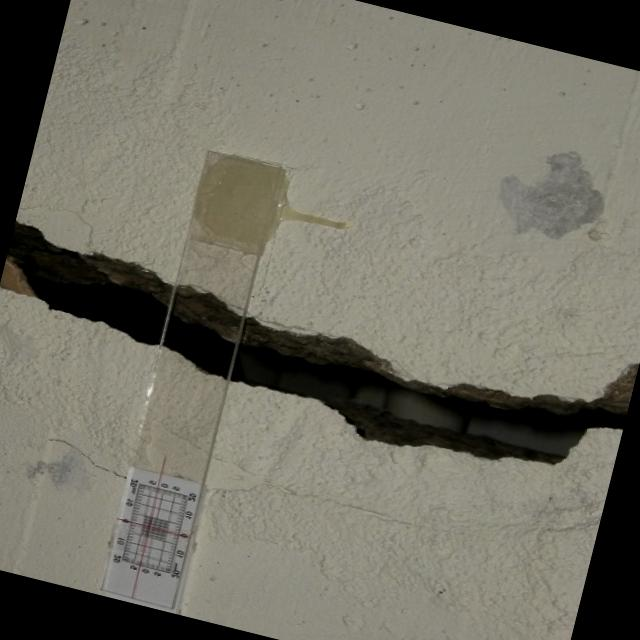spall: (0, 206, 638, 501)
